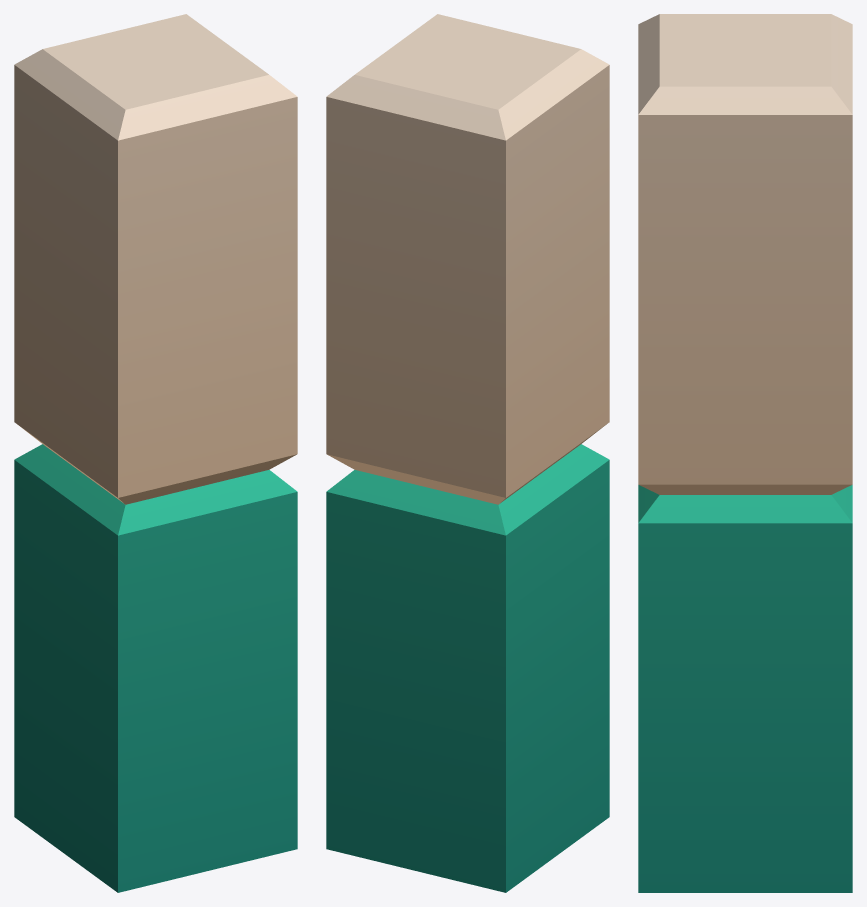
File: Pillar B.glb
The picture shows the model from 3 angles, left to right: view 1: azimuth 30°, elevation 25°; view 2: azimuth 150°, elevation 25°; view 3: azimuth 270°, elevation 25°; orthographic projection. The views are drawn at different scales.
Visible parts, largest first — view 1: pillar_B; view 2: pillar_B; view 3: pillar_B.
Boxes of the visible parts, left/top/right/bottom form: pillar_B: left=14, top=14, right=297, bottom=892; pillar_B: left=326, top=14, right=609, bottom=892; pillar_B: left=638, top=14, right=852, bottom=892.
Bounding box in the file's own units: 1 × 4.1 × 1.
1 material, 1 textured.
